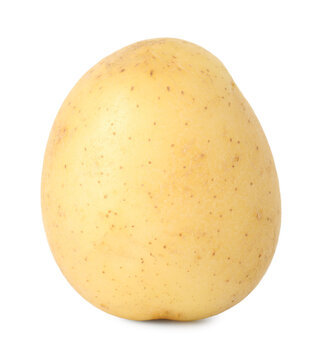potato: (38, 32, 286, 342)
